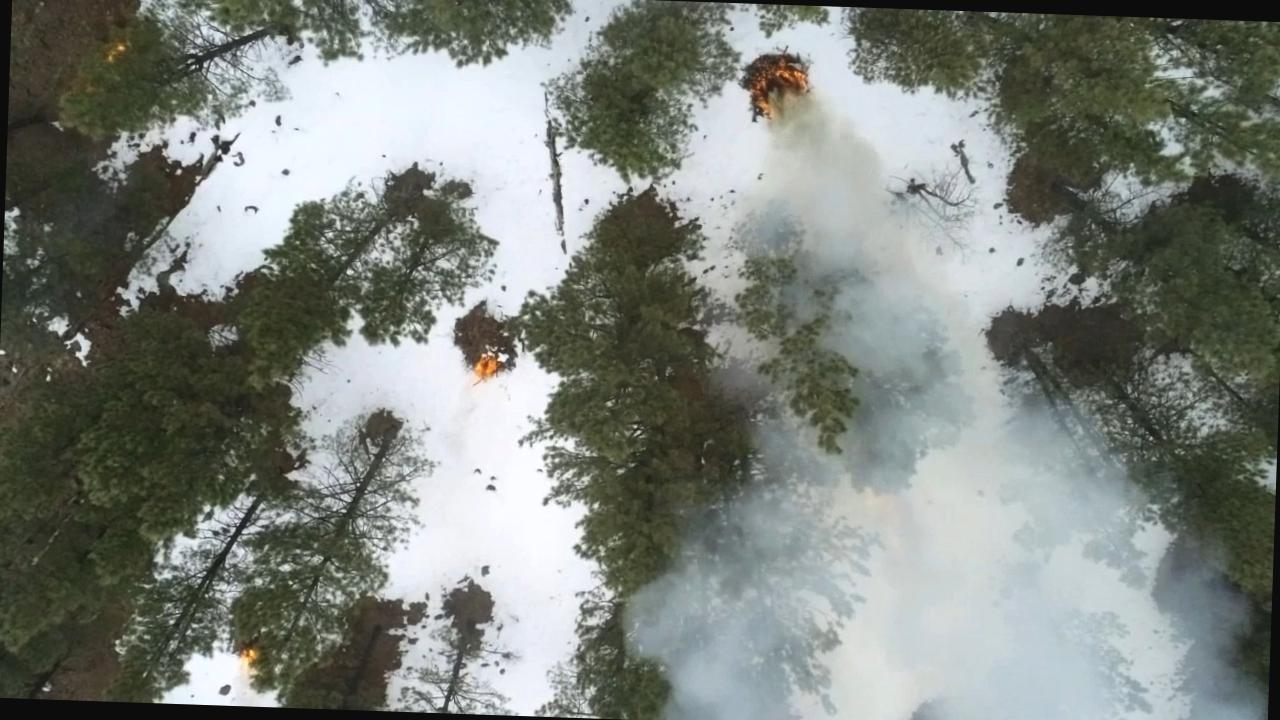fire: (742, 56, 824, 142), (466, 347, 505, 398)
smoke: (805, 357, 1234, 720), (664, 433, 870, 710), (766, 248, 972, 390)
